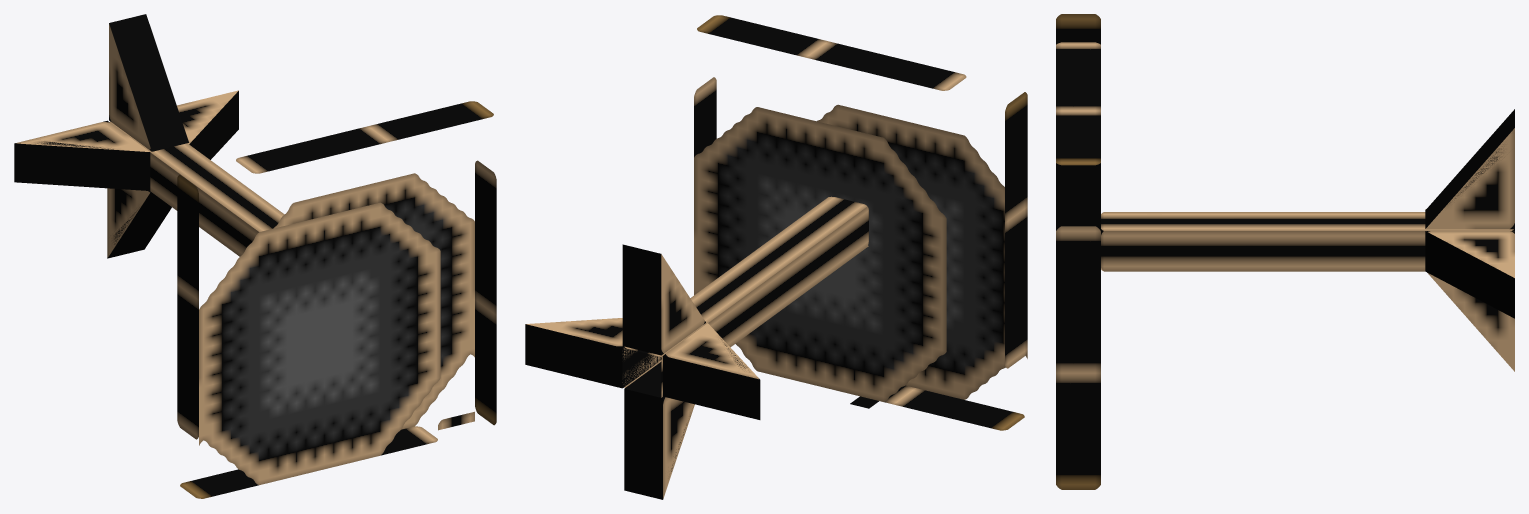
Rendered from pedestal.obj.
The picture shows the model from 3 angles, left to right: view 1: azimuth 30°, elevation 25°; view 2: azimuth 150°, elevation 25°; view 3: azimuth 270°, elevation 25°; orthographic projection. The views are drawn at different scales.
Parts seen in each view (by area): view 1: Default; view 2: Default; view 3: Default.
Boxes of the visible parts, left/top/right/bottom form: Default: left=14, top=14, right=496, bottom=498; Default: left=525, top=15, right=1027, bottom=499; Default: left=1056, top=14, right=1514, bottom=489.
Bounding box in the file's own units: 0.32 × 0.33 × 0.41.
Materials: 1 (1 with a texture image).
